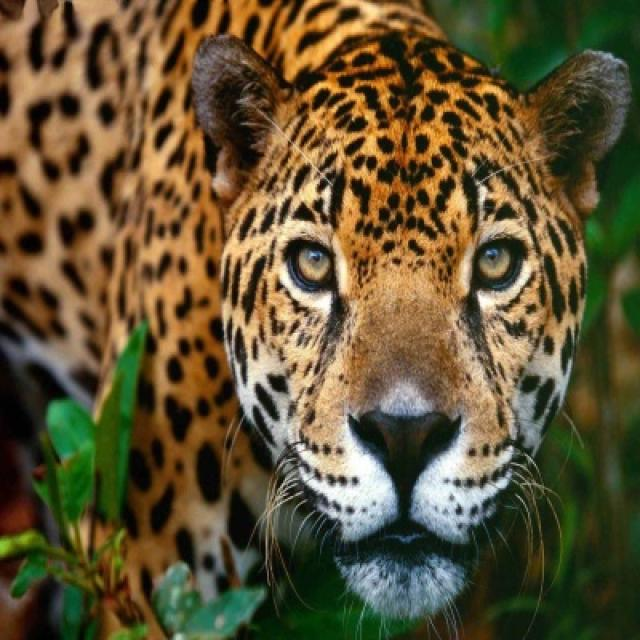Jaguar: (0, 3, 635, 638)
